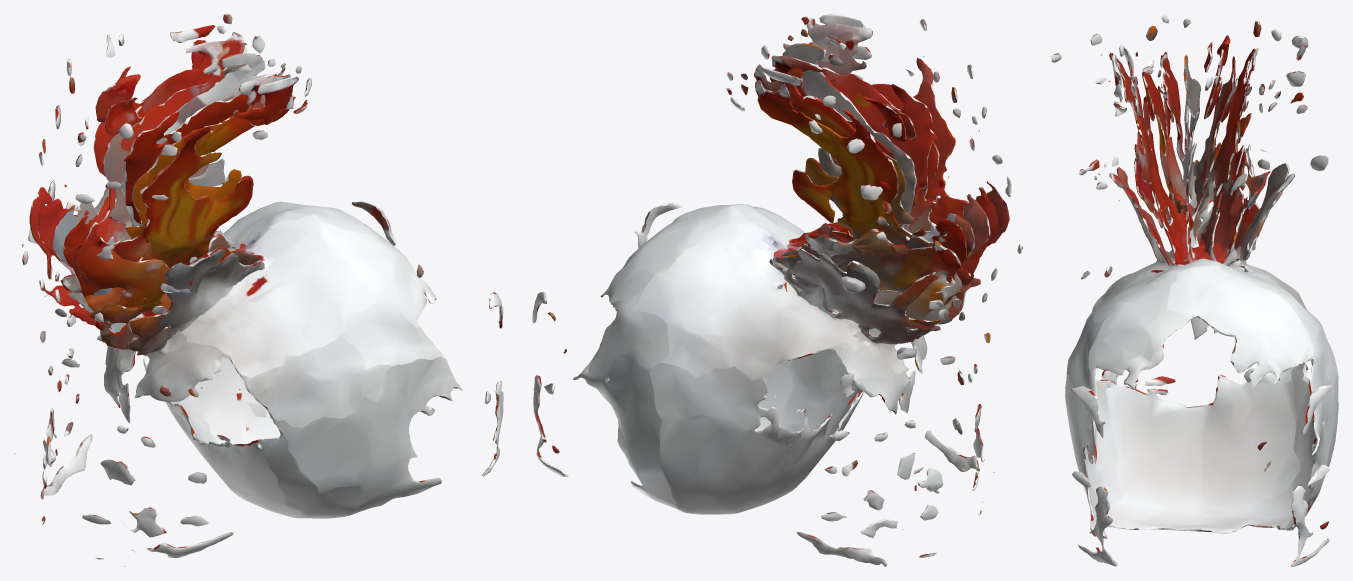
Rendered from starter-fire-l.glb.
The picture shows the model from 3 angles, left to right: view 1: azimuth 30°, elevation 25°; view 2: azimuth 150°, elevation 25°; view 3: azimuth 270°, elevation 25°; orthographic projection. The views are drawn at different scales.
Visible parts, largest first — view 1: tmp_d57ahue.ply; view 2: tmp_d57ahue.ply; view 3: tmp_d57ahue.ply.
Part boxes in pixels (x1=…): tmp_d57ahue.ply: x1=14, y1=14, x2=503, y2=566; tmp_d57ahue.ply: x1=532, y1=14, x2=1022, y2=566; tmp_d57ahue.ply: x1=1051, y1=14, x2=1338, y2=566.
Bounding box in the file's own units: 0.8982 × 0.9867 × 0.5819.
1 material, 1 textured.
